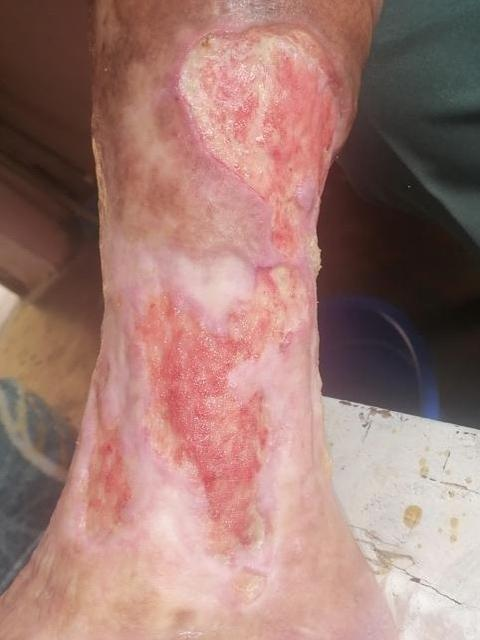wound: (136, 264, 306, 566), (173, 20, 340, 277), (78, 345, 138, 548), (92, 133, 108, 241), (229, 567, 269, 605)
